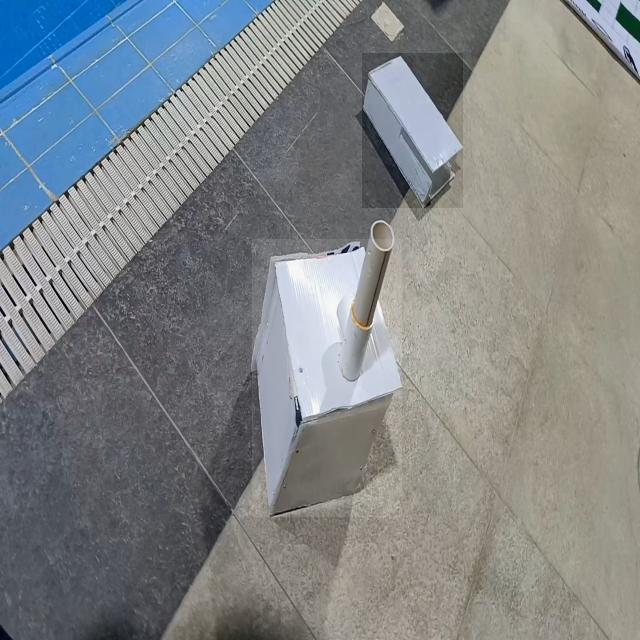Cube: (252, 239, 402, 517)
Cuboid: (362, 53, 463, 208)
